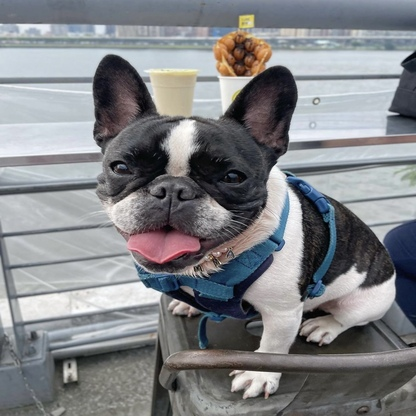bulldog: (88, 52, 400, 403)
